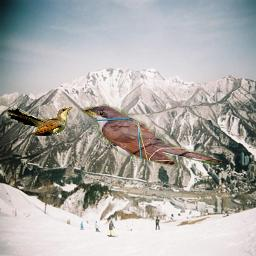Cuckoo: (80, 102, 224, 172), (6, 107, 73, 136)
